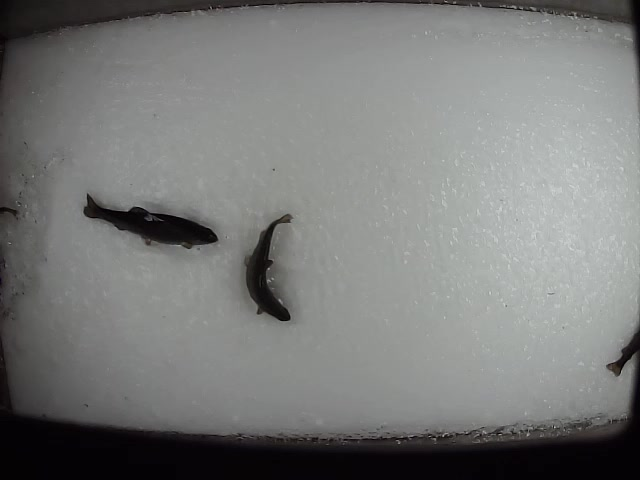fish: (81, 190, 223, 250), (240, 211, 298, 323)
